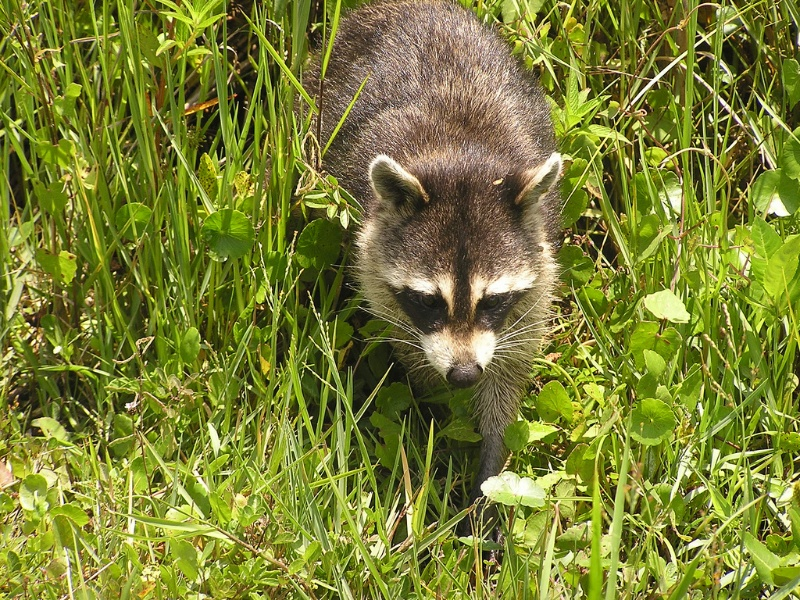raccoon: (281, 1, 576, 525)
